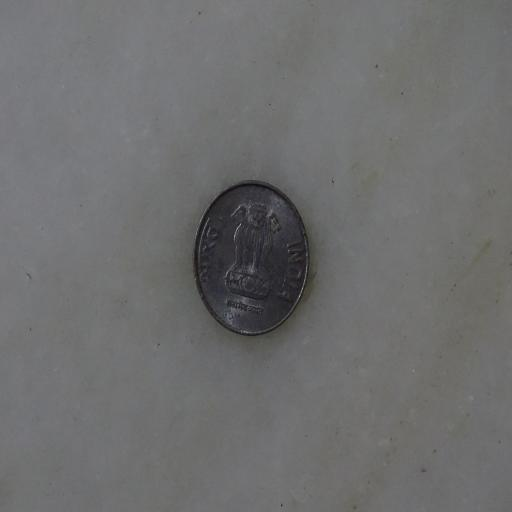rupee2: (188, 178, 315, 341)
